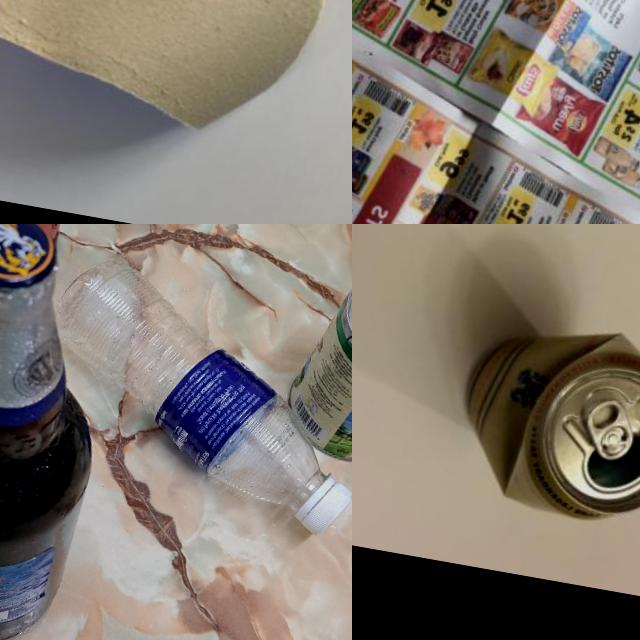aba de lata: (579, 390, 637, 464)
garrafa de vidro: (0, 224, 133, 640)
garrafa plástica: (29, 247, 352, 516)
lata: (448, 304, 640, 536), (277, 254, 352, 471)
papel: (352, 0, 640, 224), (0, 0, 340, 150)
tampa plástica: (294, 476, 352, 540)
